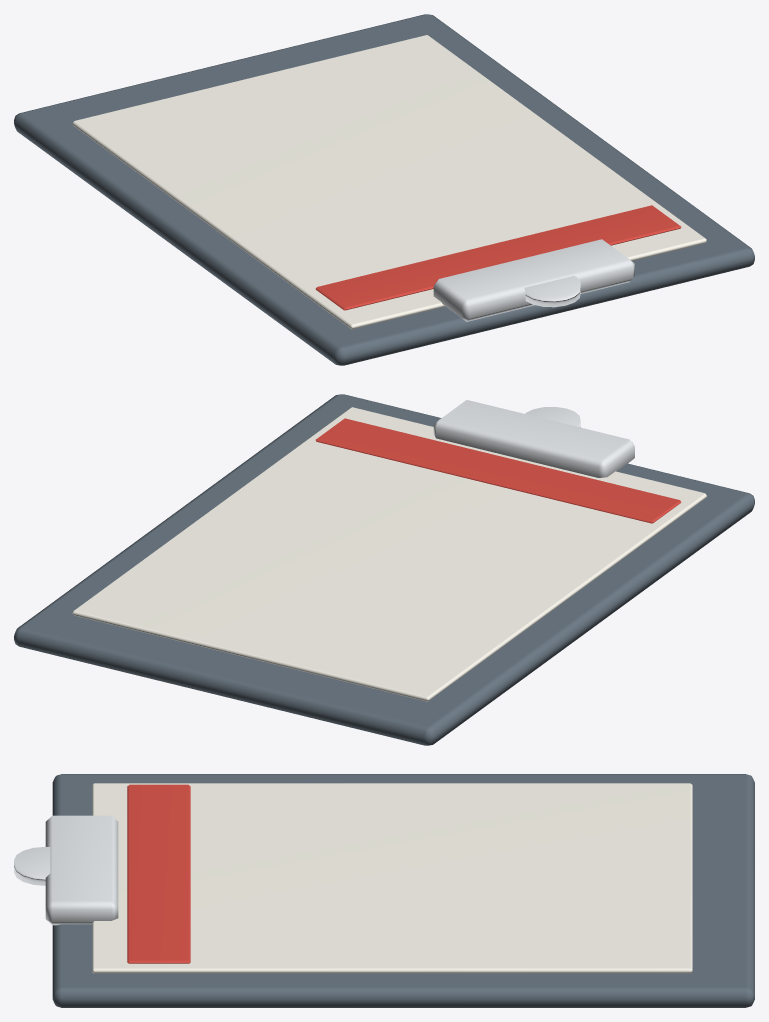
File: ptw-clipboard.glb
3 renders of one model, top to bottom at view 1: azimuth 30°, elevation 25°; view 2: azimuth 150°, elevation 25°; view 3: azimuth 270°, elevation 25°, orthographic. The views are drawn at different scales.
Parts seen in each view (by area): view 1: PtwClipboardMesh; view 2: PtwClipboardMesh; view 3: PtwClipboardMesh.
Boxes of the visible parts, x1,y1,x2,y2 form: PtwClipboardMesh: (14,14,754,365); PtwClipboardMesh: (14,394,754,745); PtwClipboardMesh: (14,774,754,1007).
Bounding box in the file's own units: 0.23 × 0.021 × 0.327.
